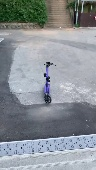beam: (41, 60, 56, 104)
